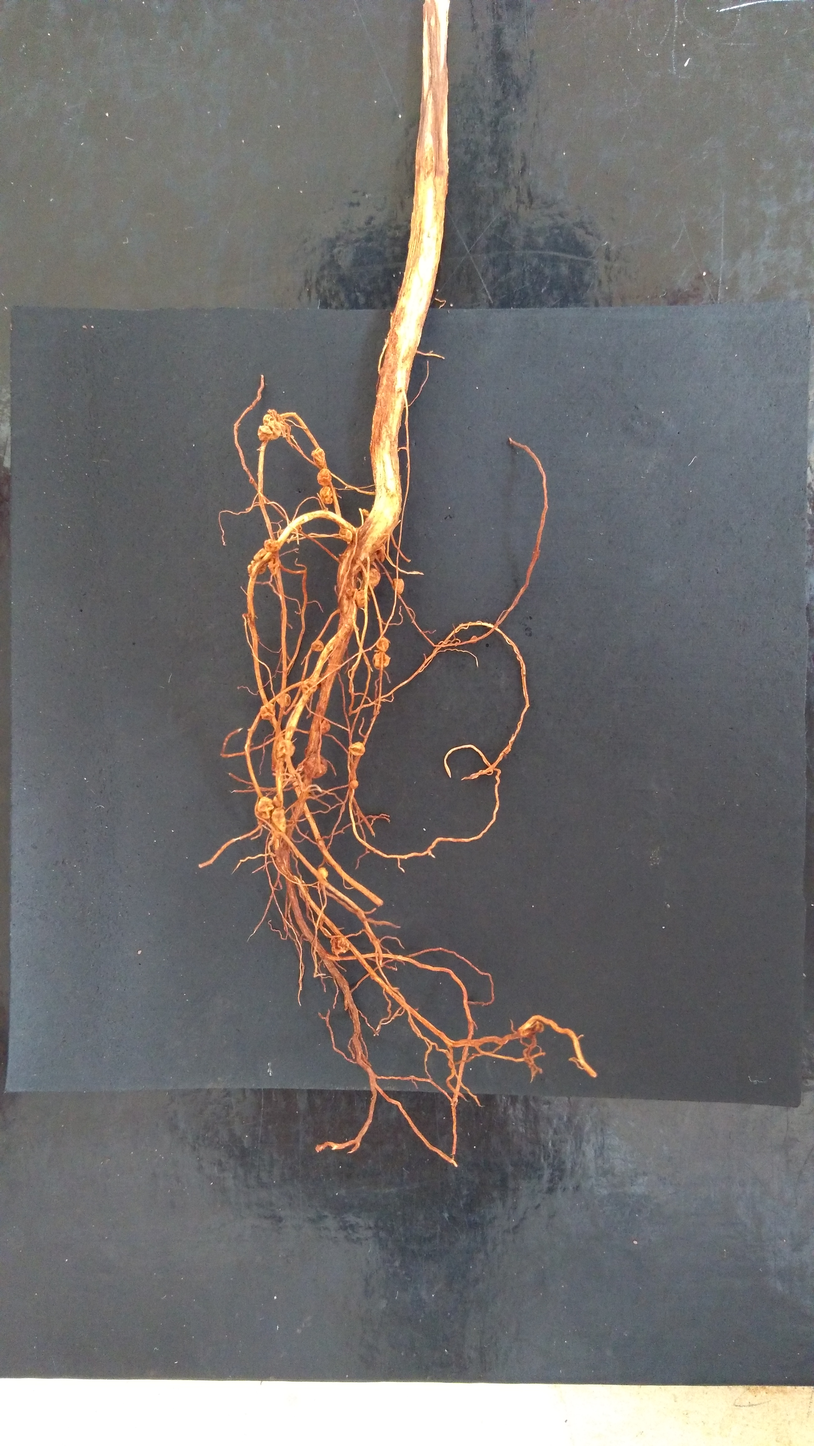nodule: (257, 414, 282, 440), (303, 753, 327, 779), (362, 567, 381, 593), (256, 796, 274, 819), (276, 740, 295, 760), (271, 807, 286, 832), (331, 936, 350, 955), (522, 1021, 544, 1037), (247, 560, 267, 574), (253, 548, 269, 565), (373, 652, 390, 668), (311, 448, 325, 467), (260, 703, 275, 720), (317, 468, 331, 486), (302, 679, 317, 694), (349, 742, 365, 756), (320, 487, 333, 504), (339, 527, 352, 544), (264, 539, 281, 552), (276, 693, 291, 707), (355, 589, 366, 608), (268, 559, 281, 574), (392, 578, 404, 594), (272, 832, 282, 851), (376, 637, 388, 652), (272, 794, 281, 813), (320, 718, 331, 733), (311, 640, 324, 652), (317, 867, 328, 878), (376, 549, 385, 562), (349, 780, 358, 789), (346, 587, 353, 596), (362, 509, 369, 517), (470, 635, 477, 643), (249, 477, 254, 484), (256, 634, 260, 642)
